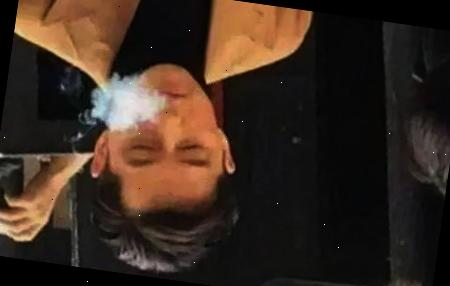smoke: (89, 71, 162, 130)
